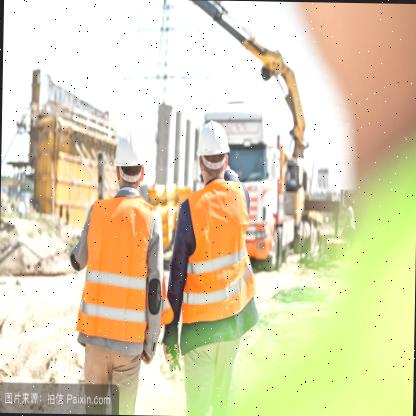capacete: (192, 117, 232, 181), (112, 126, 148, 192)
colete_refletivo: (76, 183, 166, 346), (171, 176, 258, 326)
